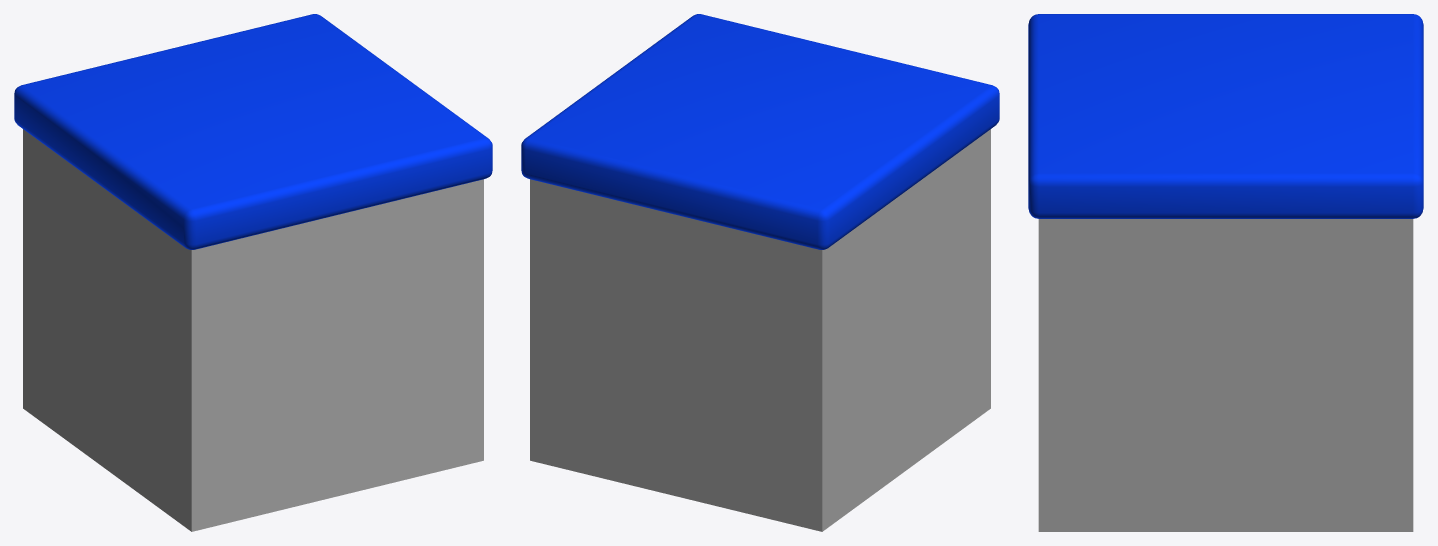
The model's file is Base 1 Tall White Blue.glb.
The picture shows the model from 3 angles, left to right: view 1: azimuth 30°, elevation 25°; view 2: azimuth 150°, elevation 25°; view 3: azimuth 270°, elevation 25°; orthographic projection. The views are drawn at different scales.
Parts seen in each view (by area): view 1: Base_1_Tall_White_; view 2: Base_1_Tall_White_; view 3: Base_1_Tall_White_.
Part boxes in pixels (x1,y1,x2,y2): Base_1_Tall_White_: (14,14,492,531); Base_1_Tall_White_: (521,14,999,531); Base_1_Tall_White_: (1028,14,1423,531).
Bounding box in the file's own units: 7.98 × 7.99 × 7.98.
